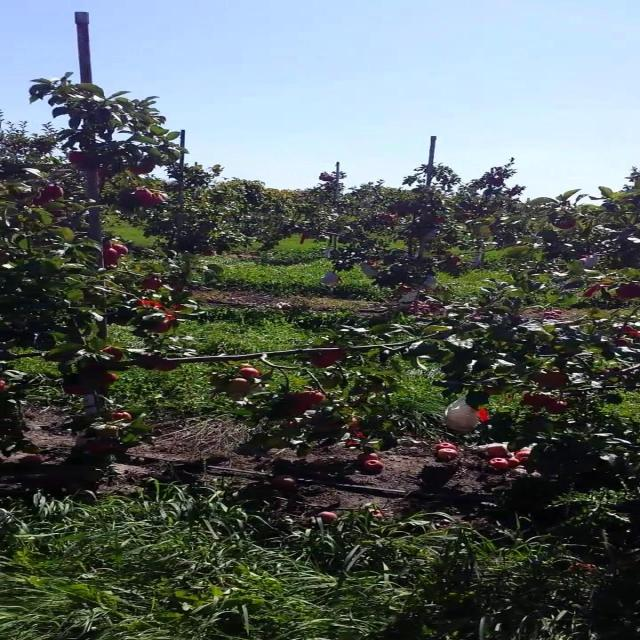apple: (532, 372, 569, 388), (604, 368, 629, 382), (319, 348, 348, 360), (525, 396, 553, 408), (618, 328, 639, 344), (547, 400, 569, 415), (618, 284, 638, 300), (127, 188, 149, 202), (227, 380, 252, 392), (84, 444, 114, 454), (148, 320, 171, 333), (141, 356, 164, 368), (305, 392, 327, 404), (156, 360, 178, 372), (134, 164, 156, 176), (319, 420, 341, 432), (106, 244, 128, 256), (589, 284, 610, 296), (241, 368, 263, 379), (42, 188, 64, 199), (28, 196, 50, 207), (106, 348, 124, 361), (63, 388, 92, 396), (141, 280, 164, 290), (106, 252, 121, 267), (106, 248, 128, 258), (291, 404, 309, 416), (618, 328, 639, 338), (70, 152, 87, 164), (113, 412, 135, 421), (476, 408, 491, 421), (148, 196, 165, 207), (348, 420, 363, 432), (113, 244, 128, 256), (312, 360, 334, 368), (99, 428, 121, 436), (134, 192, 149, 203), (483, 388, 503, 396), (291, 396, 306, 406), (99, 168, 112, 179), (618, 340, 635, 348), (561, 220, 576, 229), (141, 300, 160, 307), (106, 376, 121, 383), (49, 212, 64, 217), (212, 376, 222, 381)
